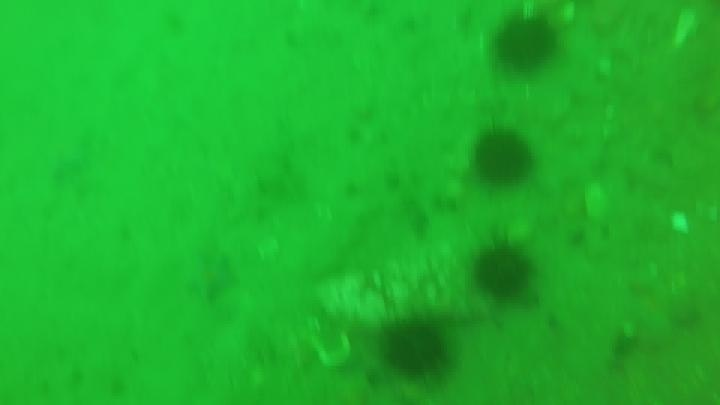echinus: (378, 315, 454, 382), (490, 11, 560, 75), (470, 238, 537, 304), (470, 126, 535, 188)
starfish: (184, 251, 240, 305)
